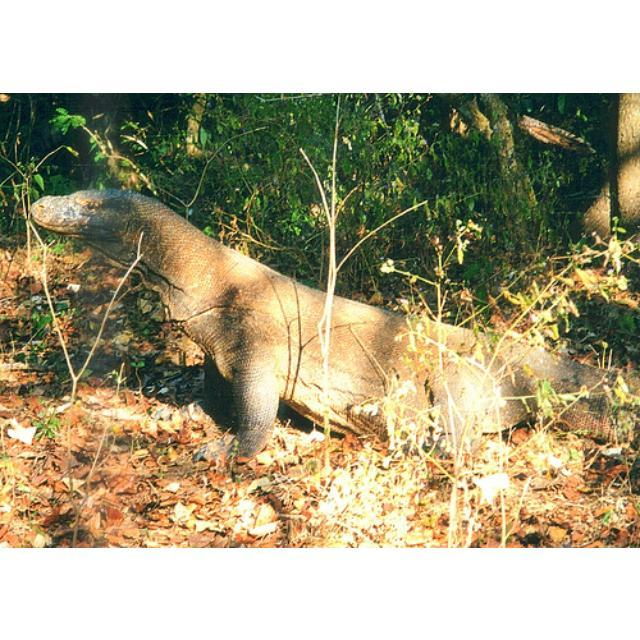KomodoDragon: (31, 183, 637, 467)
